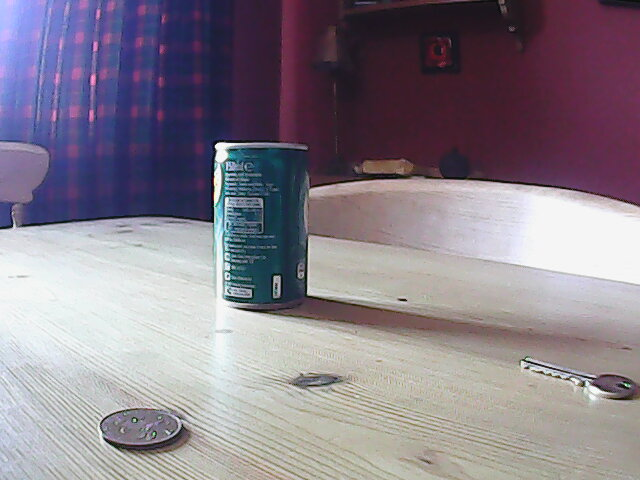Can: (211, 139, 314, 316)
Coin: (96, 403, 185, 451)
Key: (517, 355, 639, 405)
